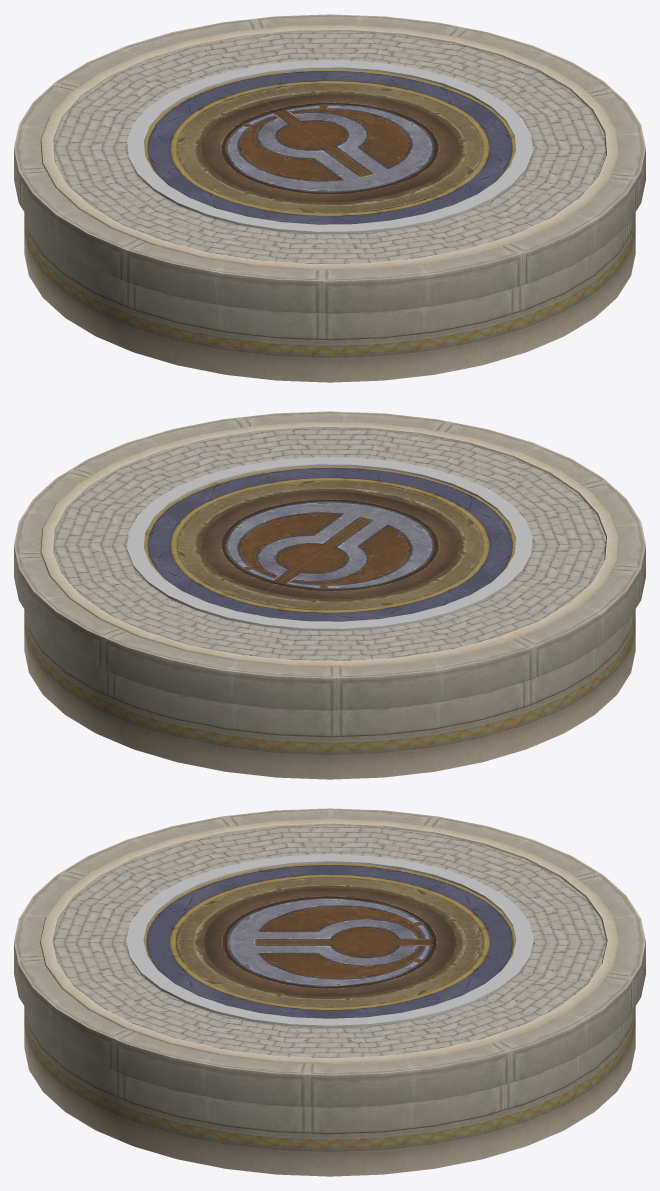
The model's file is City_Table_002.FBX.
3 views of the same model, one above another, from view 1: azimuth 30°, elevation 25°; view 2: azimuth 150°, elevation 25°; view 3: azimuth 270°, elevation 25° (orthographic).
Parts seen in each view (by area): view 1: Table04_Build_LostTemple_005, Tube001, City_Table_001, Ground03_Build_LostTemple_002; view 2: Table04_Build_LostTemple_005, Tube001, City_Table_001, Ground03_Build_LostTemple_002; view 3: Table04_Build_LostTemple_005, Tube001, City_Table_001, Ground03_Build_LostTemple_002.
Part boxes in pixels (box(x1,y1,x2,y2)): Table04_Build_LostTemple_005: box(14, 14, 645, 382); Tube001: box(54, 31, 605, 263); City_Table_001: box(144, 69, 515, 224); Ground03_Build_LostTemple_002: box(127, 60, 532, 234); Table04_Build_LostTemple_005: box(14, 411, 645, 779); Tube001: box(54, 428, 605, 660); City_Table_001: box(144, 466, 515, 621); Ground03_Build_LostTemple_002: box(127, 457, 532, 631); Table04_Build_LostTemple_005: box(14, 808, 645, 1176); Tube001: box(53, 825, 606, 1058); City_Table_001: box(144, 863, 515, 1018); Ground03_Build_LostTemple_002: box(126, 854, 533, 1027).
Bounding box in the file's own units: 32.47 × 6.09 × 32.47.
